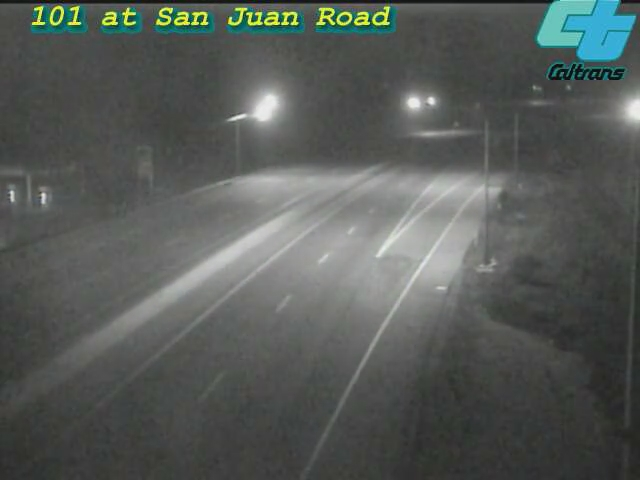vehicle: (610, 84, 640, 134)
